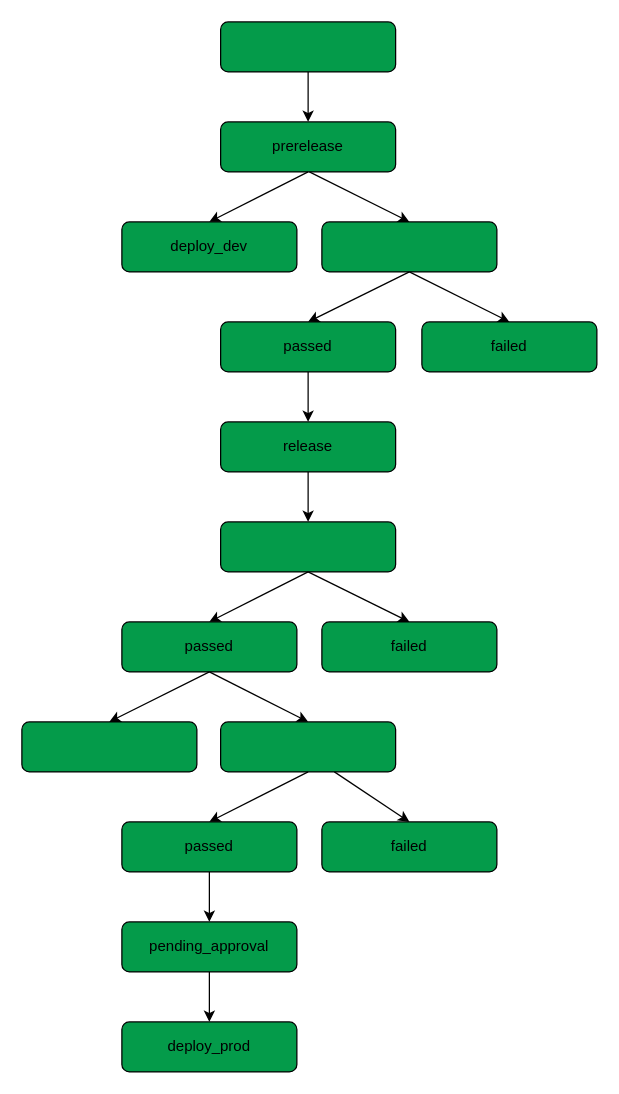
This 619x1094 diagram has some shape labels left out. Each missing label, with the box of its shape:
deploy_stage: (21, 721, 197, 772)
deploy_temp_test_dev: (321, 221, 497, 272)
deploy_temp_test_prod: (219, 721, 396, 772)
deploy_temp_test_stage: (219, 521, 396, 572)
master: (219, 21, 396, 72)
